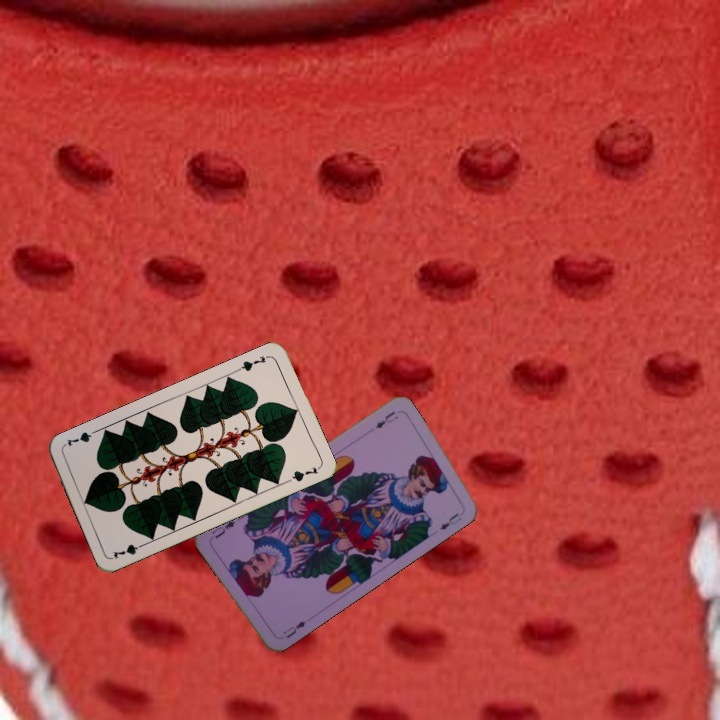EU: (371, 407, 401, 431), (279, 617, 308, 641)
G7: (109, 539, 148, 561), (234, 352, 272, 374)
